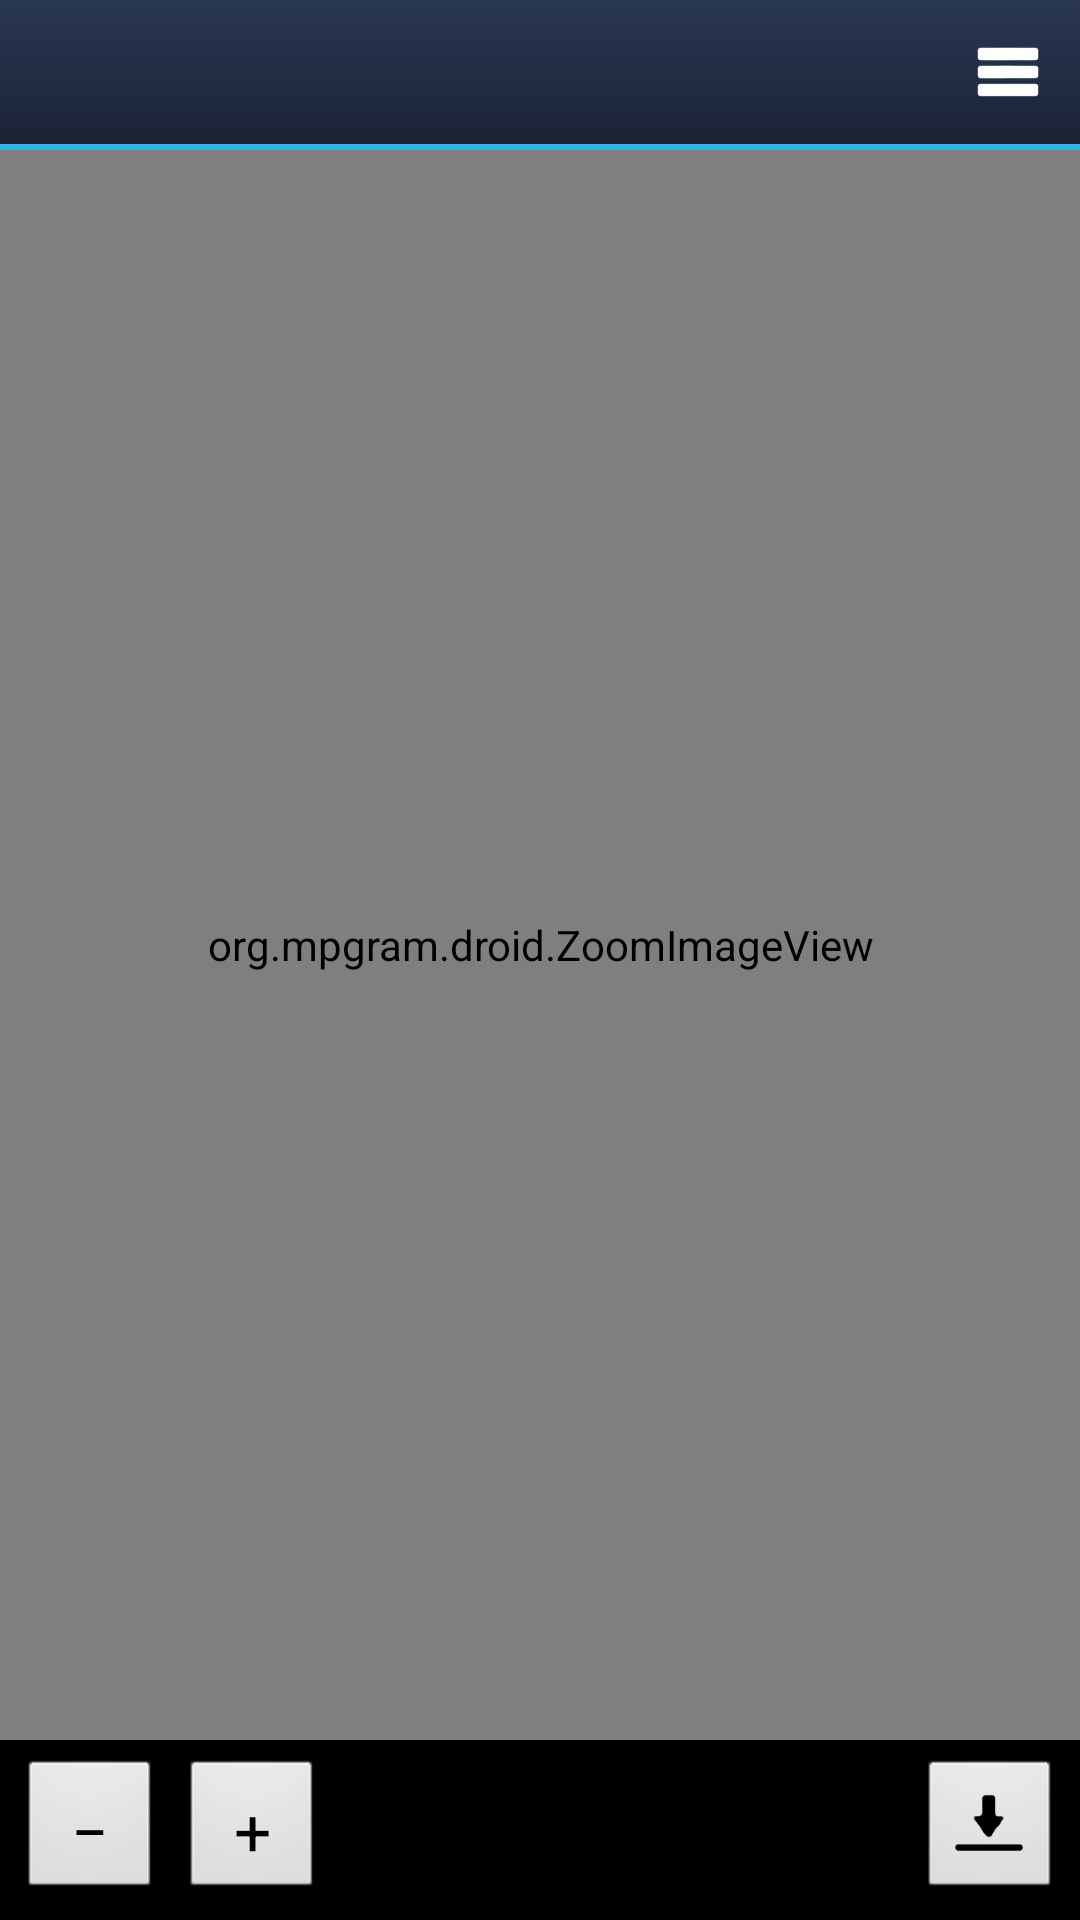

Icon click points for this 1080 x 1920 phone screenshot, format [x,y]:
Download: [989,1823]
Menu: [1008,72]
